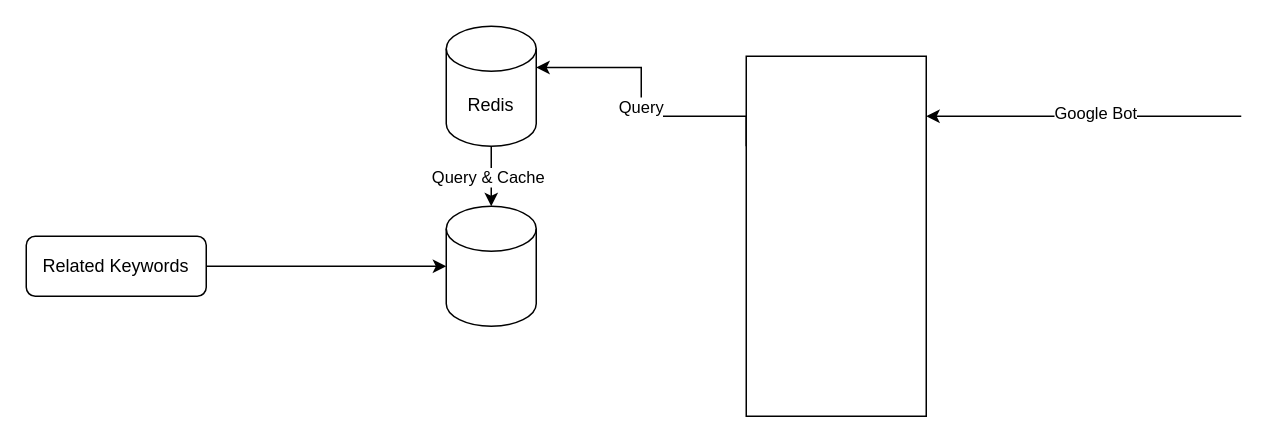
Some shapes in this 1280 by 443 pixel diagram are drawn without their labels. The box of each missing label's shape, as (x1, y1, x2, y2) in pixels:
MySQL: (445, 205, 536, 326)
Showroom: (745, 55, 926, 416)
